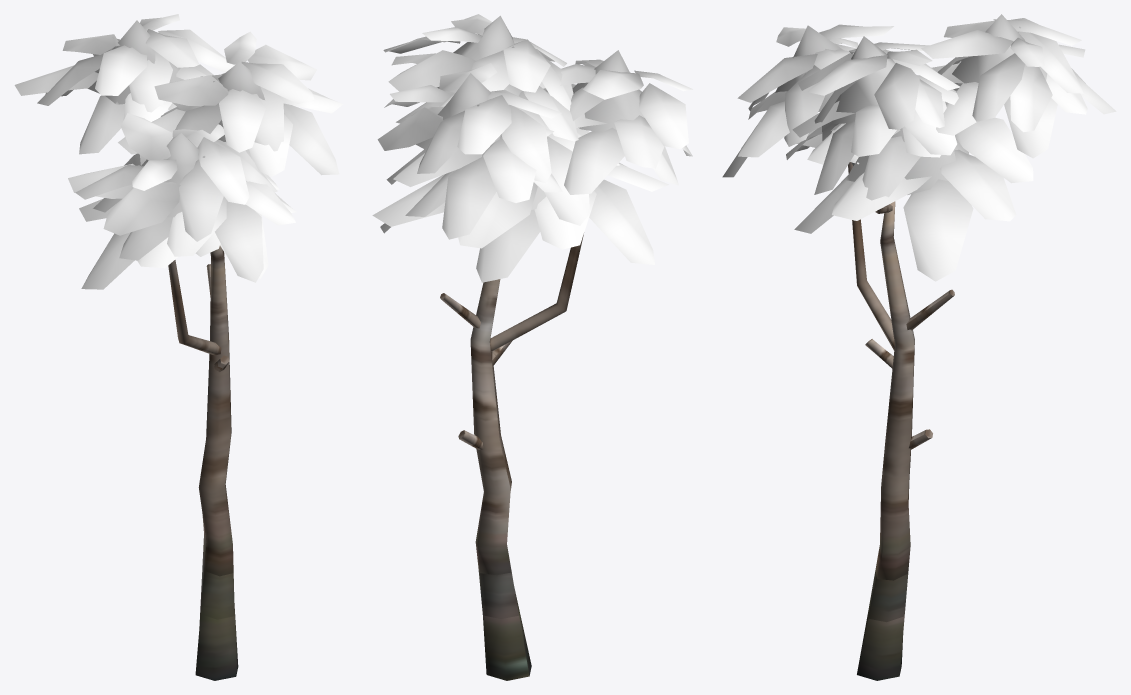
The model's file is Birch_4.FBX.
3 views of the same model, side by side, from view 1: azimuth 30°, elevation 25°; view 2: azimuth 150°, elevation 25°; view 3: azimuth 270°, elevation 25° (orthographic). The views are drawn at different scales.
Parts seen in each view (by area): view 1: birch, base, stub; view 2: birch, base, stub; view 3: birch, base, stub.
Part boxes in pixels (x1,y1,x2,y2): birch: (14, 14, 343, 576); base: (195, 606, 238, 680); stub: (200, 563, 234, 619); birch: (372, 14, 692, 575); base: (483, 609, 531, 680); stub: (478, 569, 519, 618); birch: (722, 14, 1116, 580); base: (857, 610, 904, 680); stub: (868, 571, 908, 622).
Size of the model in its own units: 483 by 1052 by 583.
